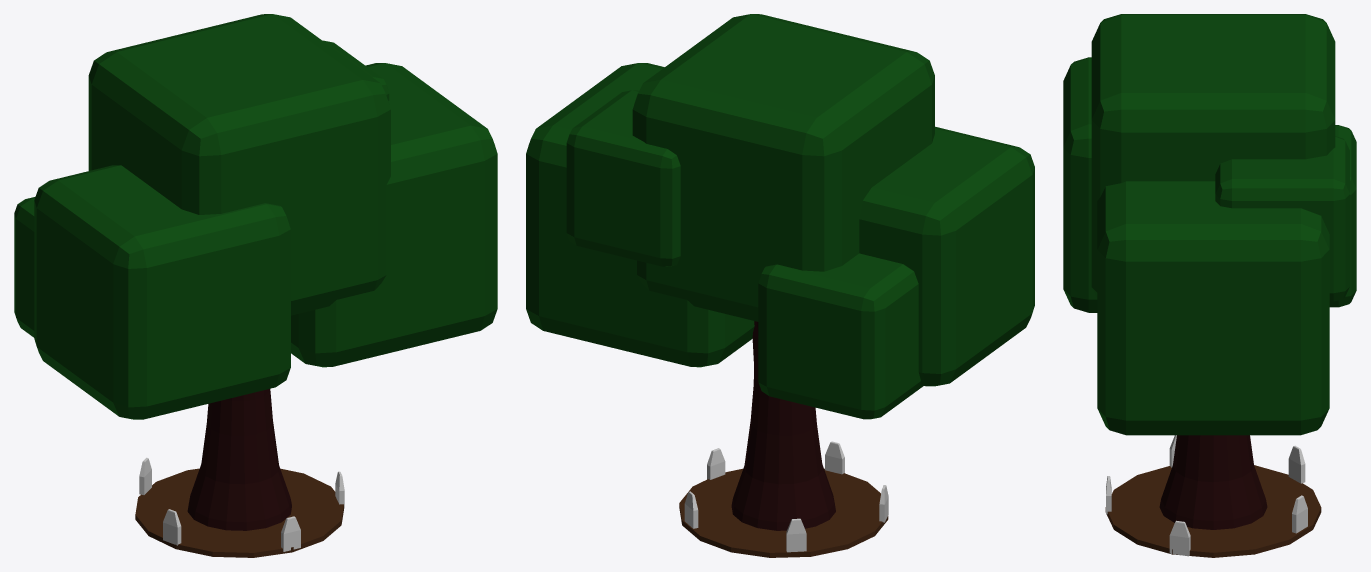
The model's file is tree_polygoogle.obj.
3 renders of one model, left to right at view 1: azimuth 30°, elevation 25°; view 2: azimuth 150°, elevation 25°; view 3: azimuth 270°, elevation 25°, orthographic. The views are drawn at different scales.
Parts seen in each view (by area): view 1: Cylinder, Cylinder.002, Cylinder.001; view 2: Cylinder, Cylinder.002, Cylinder.001; view 3: Cylinder, Cylinder.002, Cylinder.001.
Part boxes in pixels (x1,y1,x2,y2): Cylinder: (14, 14, 497, 530); Cylinder.002: (135, 468, 343, 557); Cylinder.001: (139, 457, 344, 551); Cylinder: (526, 14, 1034, 530); Cylinder.002: (679, 468, 888, 557); Cylinder.001: (684, 441, 888, 552); Cylinder: (1063, 14, 1356, 529); Cylinder.002: (1105, 465, 1321, 557); Cylinder.001: (1106, 435, 1307, 556).
Size of the model in its own units: 3.88 by 4.15 by 2.41.
